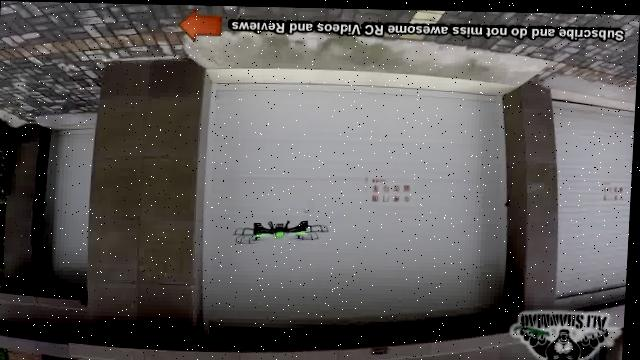drone: (234, 208, 336, 250)
